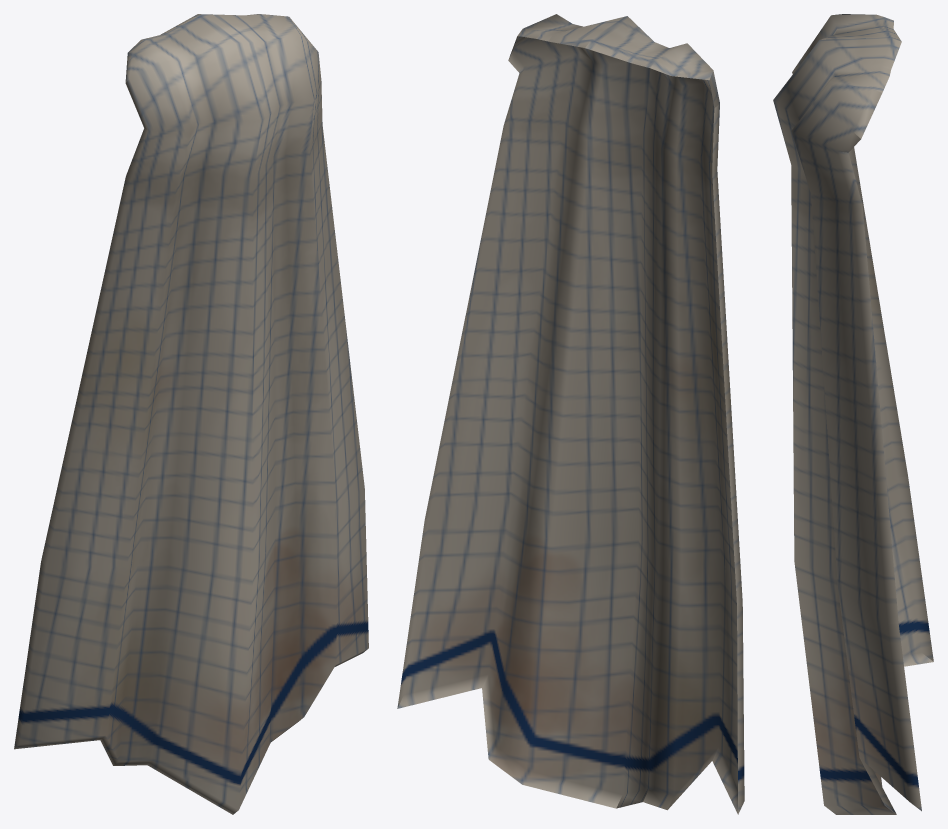
The model's file is TeaTowel_Hanging.fbx.
The picture shows the model from 3 angles, left to right: view 1: azimuth 30°, elevation 25°; view 2: azimuth 150°, elevation 25°; view 3: azimuth 270°, elevation 25°; orthographic projection.
Visible parts, largest first — view 1: Cloth; view 2: Cloth; view 3: Cloth.
Boxes of the visible parts, x1,y1,x2,y2 form: Cloth: (14, 14, 368, 814); Cloth: (397, 14, 744, 814); Cloth: (773, 14, 933, 814).
Size of the model in its own units: 3.05 by 6.63 by 1.25.
